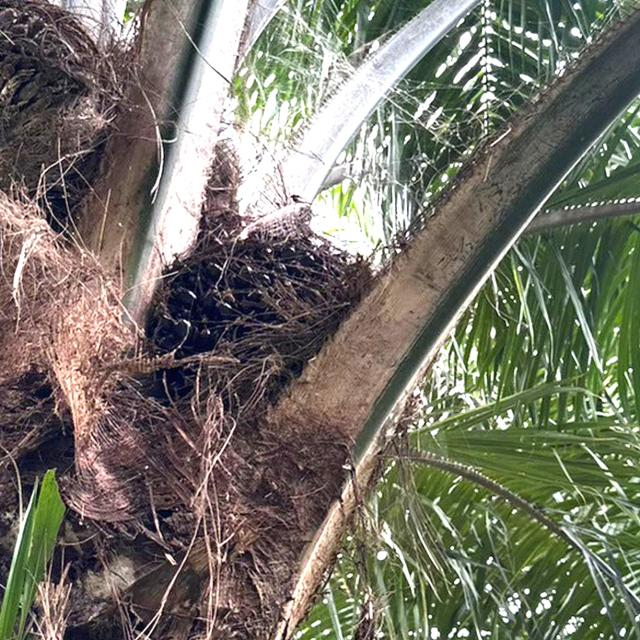unripe: (122, 209, 392, 435)
